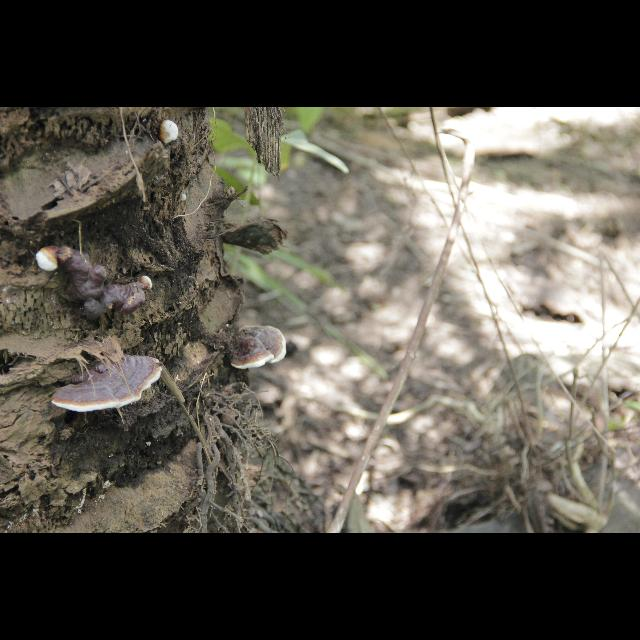ganoderma: (52, 356, 164, 415), (61, 247, 146, 322), (230, 327, 288, 372)
primordium: (36, 247, 60, 274), (159, 120, 180, 145), (141, 277, 154, 292), (182, 194, 188, 202)
